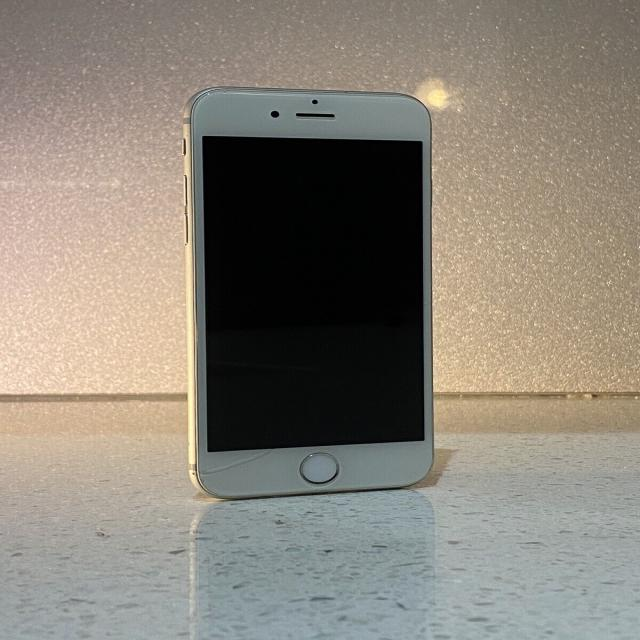Crack: (195, 441, 280, 492)
